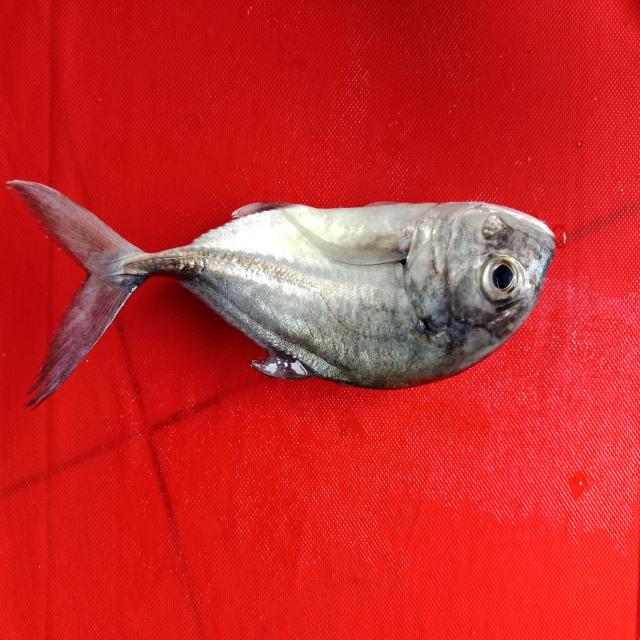ikan: (9, 156, 568, 434)
